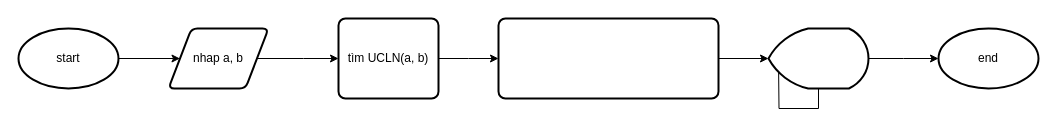
Some shapes in this 1056 by 134 pixel diagram are drawn without their labels. Here are the shapes that lost their labels. From the top down, the centre of each, then its label:
the point at 608,58: tính BCNN = (|a * b|) / UCLN
the point at 818,58: print("BCNN")
